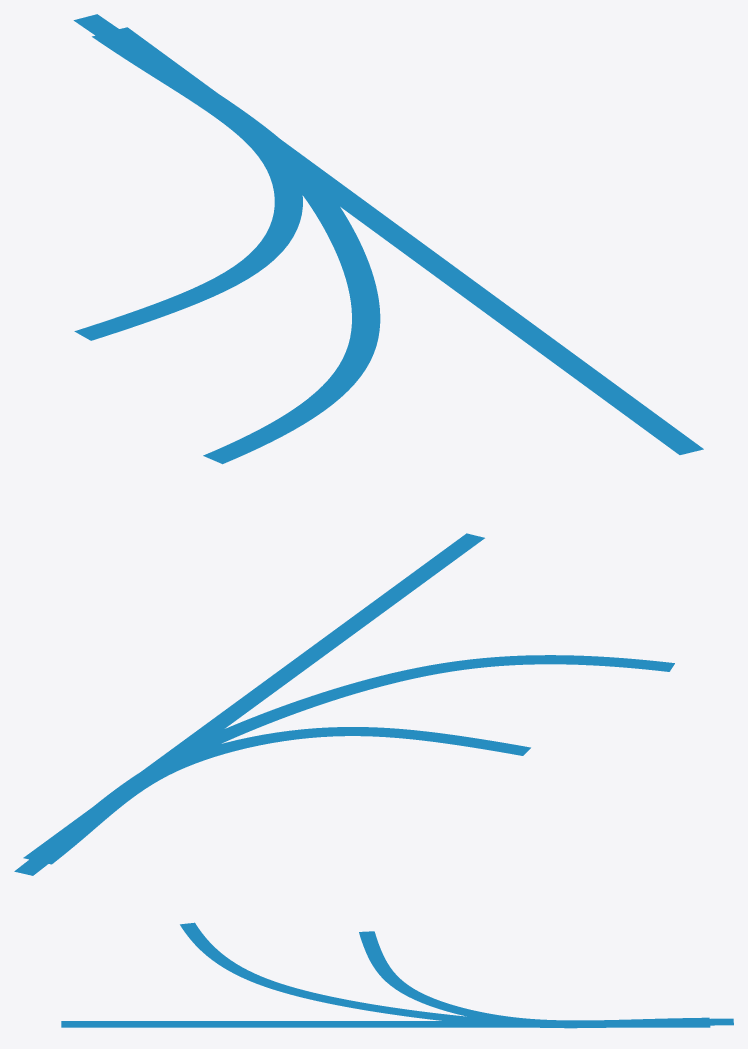
The model's file is guide.glb.
The picture shows the model from 3 angles, top to bottom: view 1: azimuth 30°, elevation 25°; view 2: azimuth 150°, elevation 25°; view 3: azimuth 270°, elevation 25°; orthographic projection. The views are drawn at different scales.
Parts seen in each view (by area): view 1: static; view 2: static; view 3: static.
Boxes of the visible parts, x1=… form: static: x1=73, y1=14, x2=703, y2=464; static: x1=14, y1=533, x2=674, y2=875; static: x1=61, y1=922, x2=733, y2=1028.
Bounding box in the file's own units: 6.23 × 0 × 14.47.
